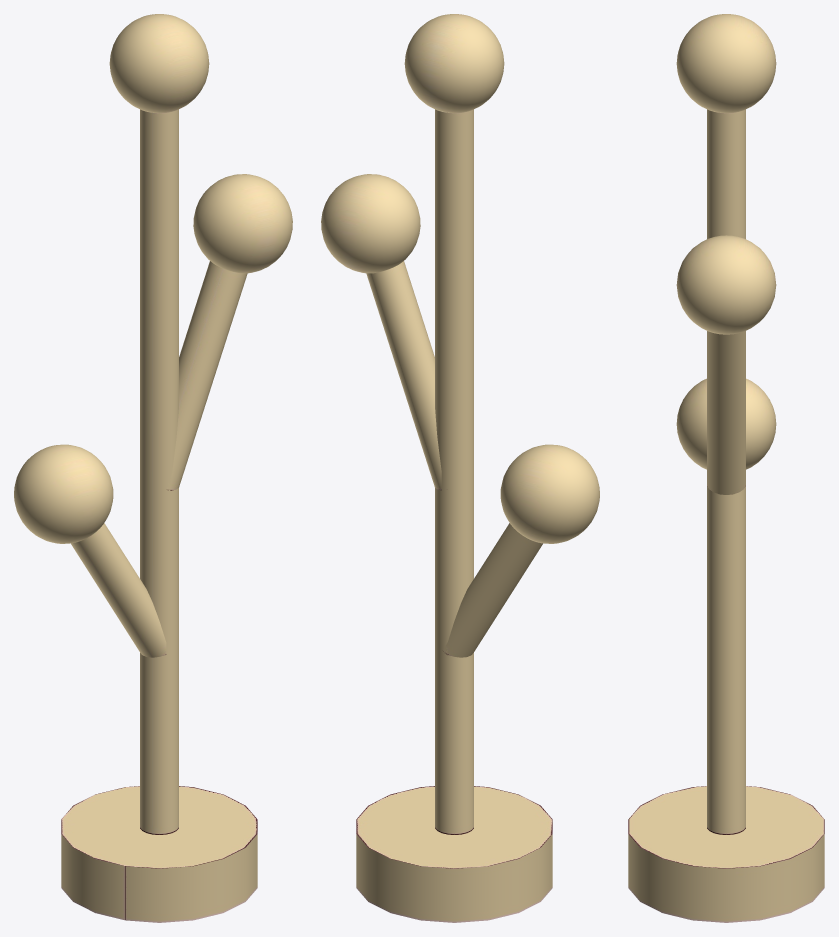
Rendered from Dream(3)_Hanger.fbx.
3 views of the same model, side by side, from view 1: azimuth 30°, elevation 25°; view 2: azimuth 150°, elevation 25°; view 3: azimuth 270°, elevation 25° (orthographic).
Parts seen in each view (by area): view 1: Cylinder001; view 2: Cylinder001; view 3: Cylinder001.
Part boxes in pixels (x1,y1,x2,y2): Cylinder001: (14, 14, 292, 922); Cylinder001: (321, 14, 599, 922); Cylinder001: (628, 14, 824, 922).
Bounding box in the file's own units: 30.8 × 95.5 × 19.7.
1 material, 1 textured.
